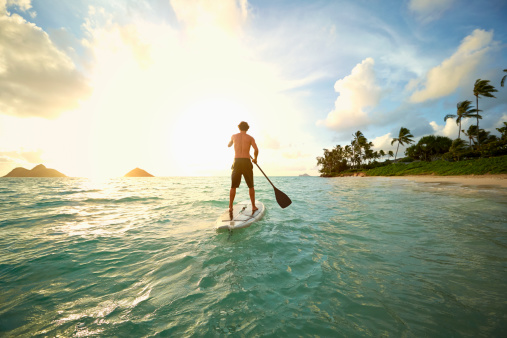em pe: (220, 108, 264, 222)
